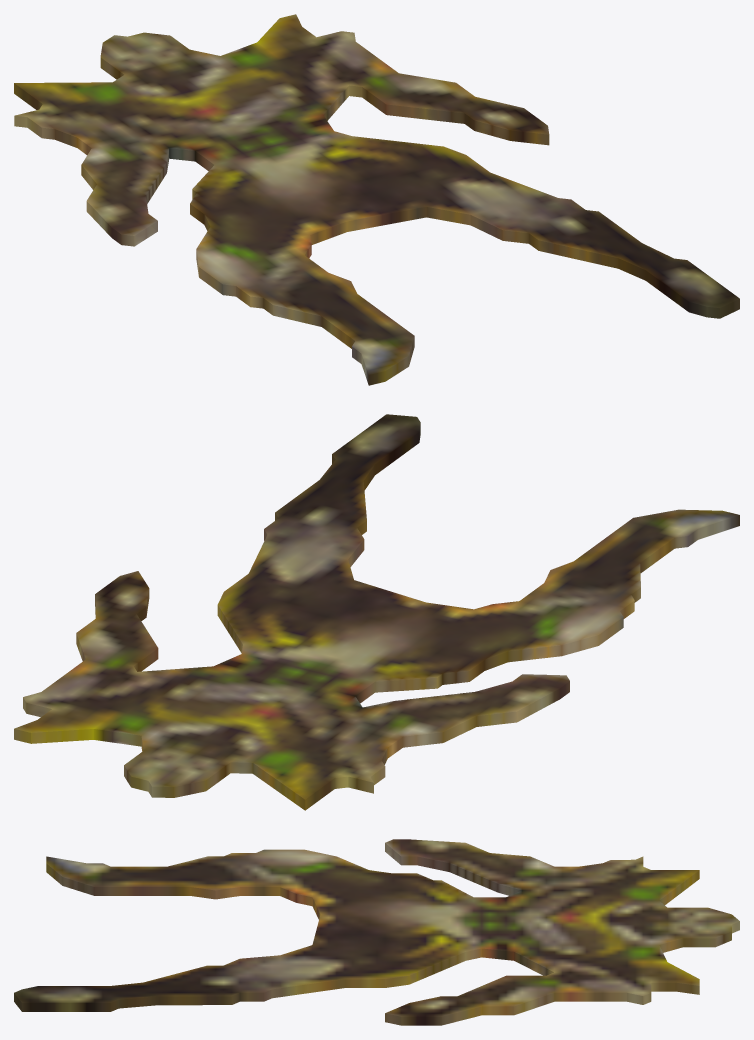
File: SieuNhanGiap.glb
3 views of the same model, one above another, from view 1: azimuth 30°, elevation 25°; view 2: azimuth 150°, elevation 25°; view 3: azimuth 270°, elevation 25° (orthographic). The views are drawn at different scales.
Visible parts, largest first — view 1: SieuNhanGiap; view 2: SieuNhanGiap; view 3: SieuNhanGiap.
Boxes of the visible parts, box(x1,y1,x2,y2) form: SieuNhanGiap: box(14, 14, 739, 385); SieuNhanGiap: box(14, 414, 739, 810); SieuNhanGiap: box(14, 839, 739, 1025).
Size of the model in its own units: 0.2124 by 0.005 by 0.3676.
1 material, 1 textured.
